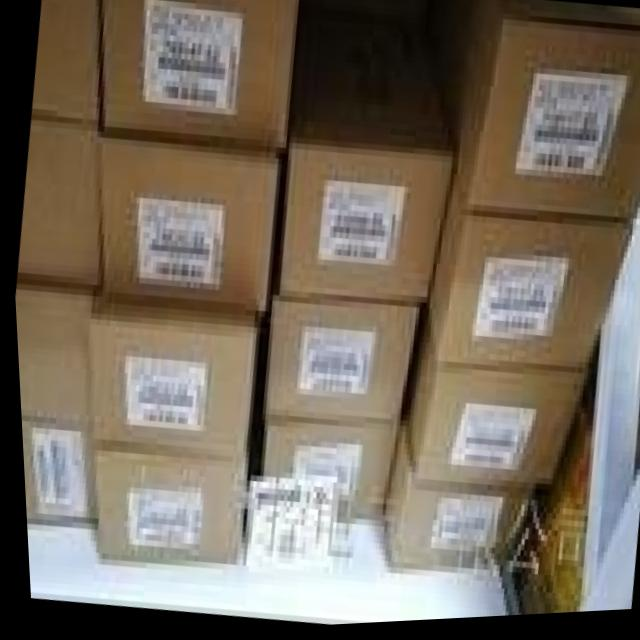box: (422, 174, 634, 374), (456, 0, 640, 226), (96, 138, 274, 314), (402, 319, 581, 490), (102, 0, 299, 151), (87, 291, 252, 466), (276, 146, 454, 307), (377, 425, 518, 572), (261, 292, 414, 424), (88, 445, 244, 568), (14, 109, 97, 286), (258, 417, 392, 520), (12, 284, 90, 428), (31, 0, 96, 121), (17, 421, 89, 525)
